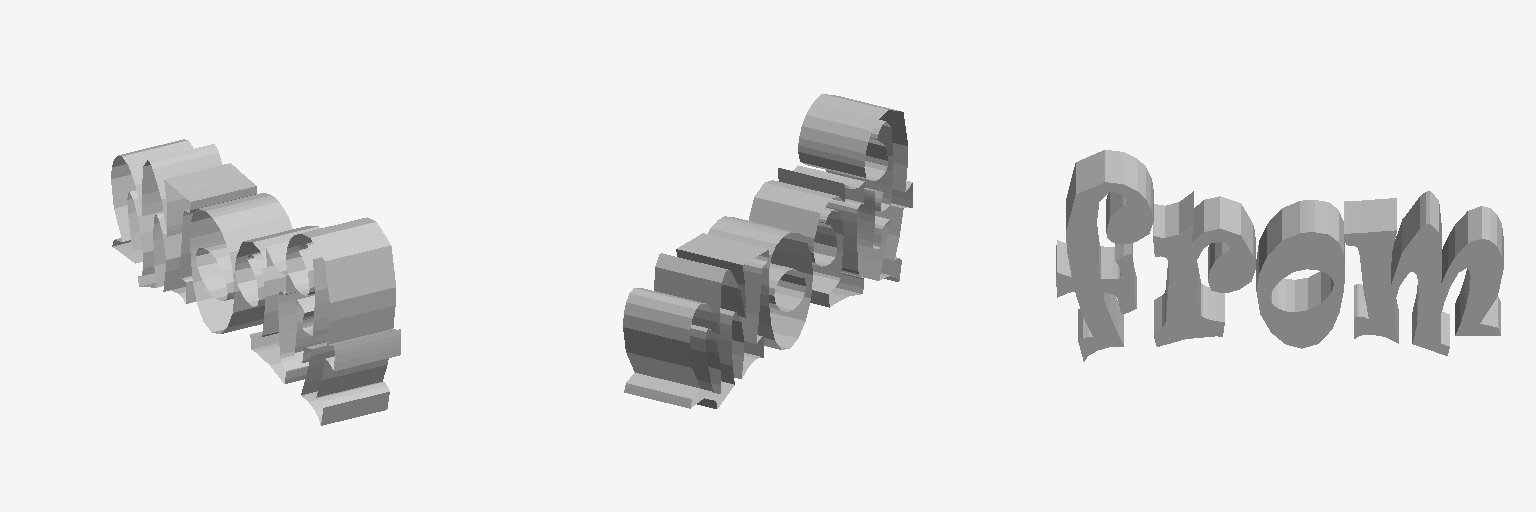
File: typemesh_from.obj
The picture shows the model from 3 angles: view 1: azimuth 30°, elevation 25°; view 2: azimuth 150°, elevation 25°; view 3: azimuth 270°, elevation 25°; orthographic projection.
Visible parts, largest first — view 1: typeMesh_from group2; view 2: typeMesh_from group2; view 3: typeMesh_from group2.
Boxes of the visible parts, x1,y1,x2,y2 form: typeMesh_from group2: [111, 139, 400, 425]; typeMesh_from group2: [623, 94, 912, 408]; typeMesh_from group2: [1056, 150, 1503, 361].
Size of the model in its own units: 0.0946 by 0.2452 by 0.5511.